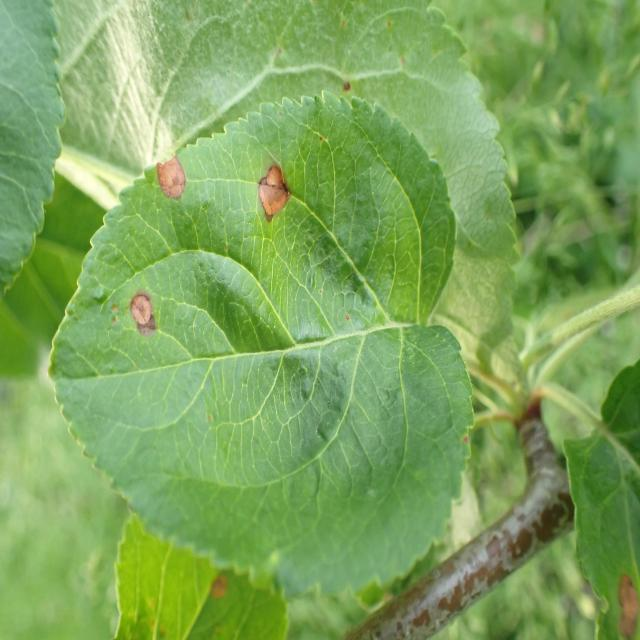Black Rot: (254, 150, 293, 241), (120, 276, 168, 347), (152, 144, 196, 217)
